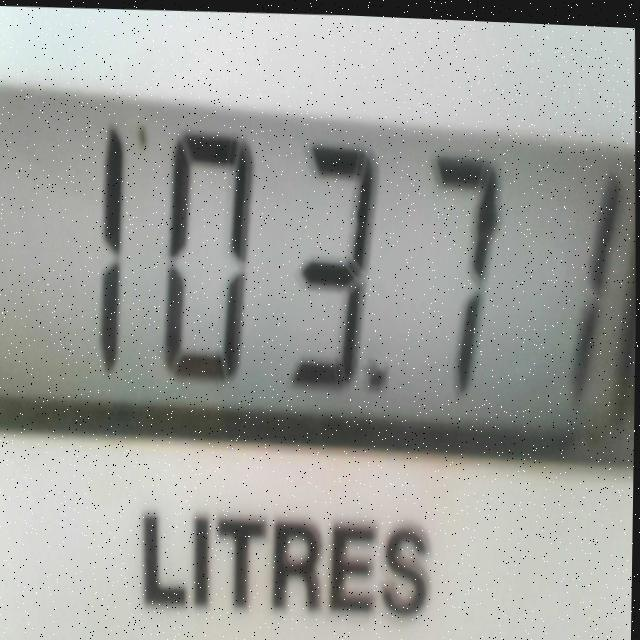.: (363, 340, 403, 414)
0: (153, 121, 266, 384)
1: (536, 149, 626, 433)
3: (276, 136, 382, 410)
5: (80, 121, 151, 377)
7: (409, 131, 507, 415)
